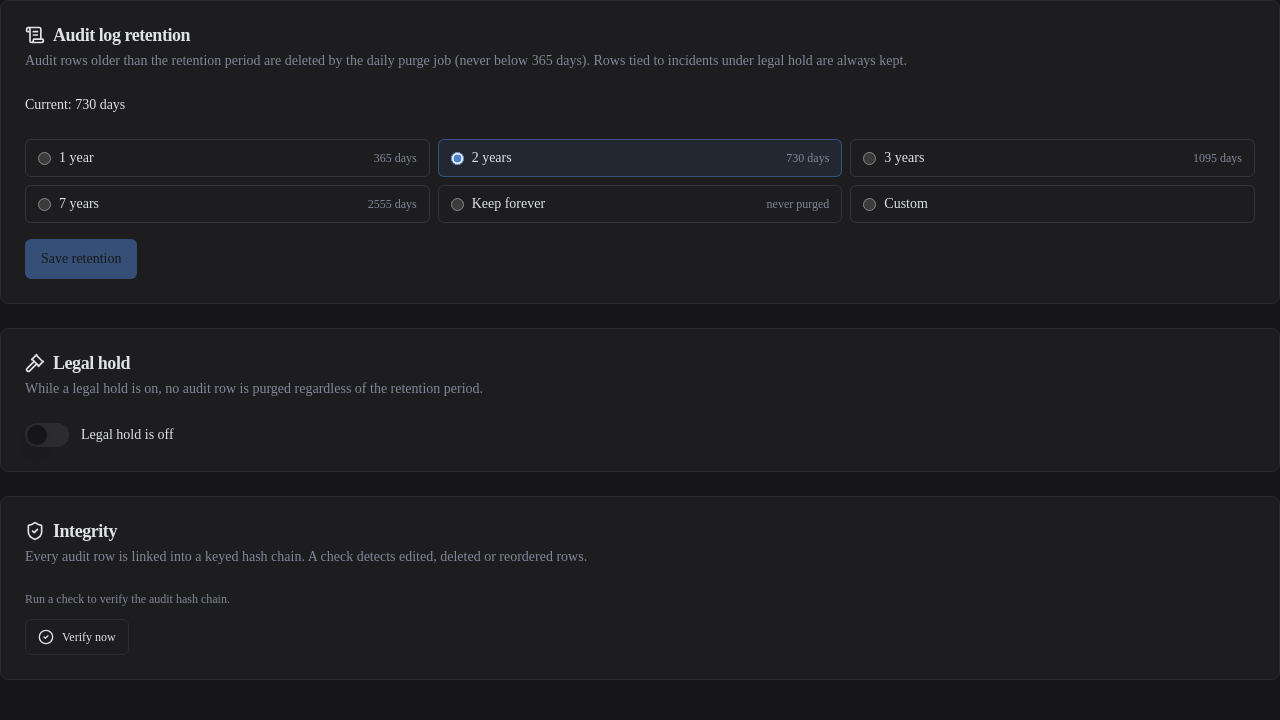
Scenario: AuditRetentionTab: retention › cancelling the confirmation sends nothing more
expect the heading "Audit log retention" is shown: met, box [25,25,190,45]
Click the radio button labelled "1 year 365 days" at (44, 158), box [38,152,51,164]
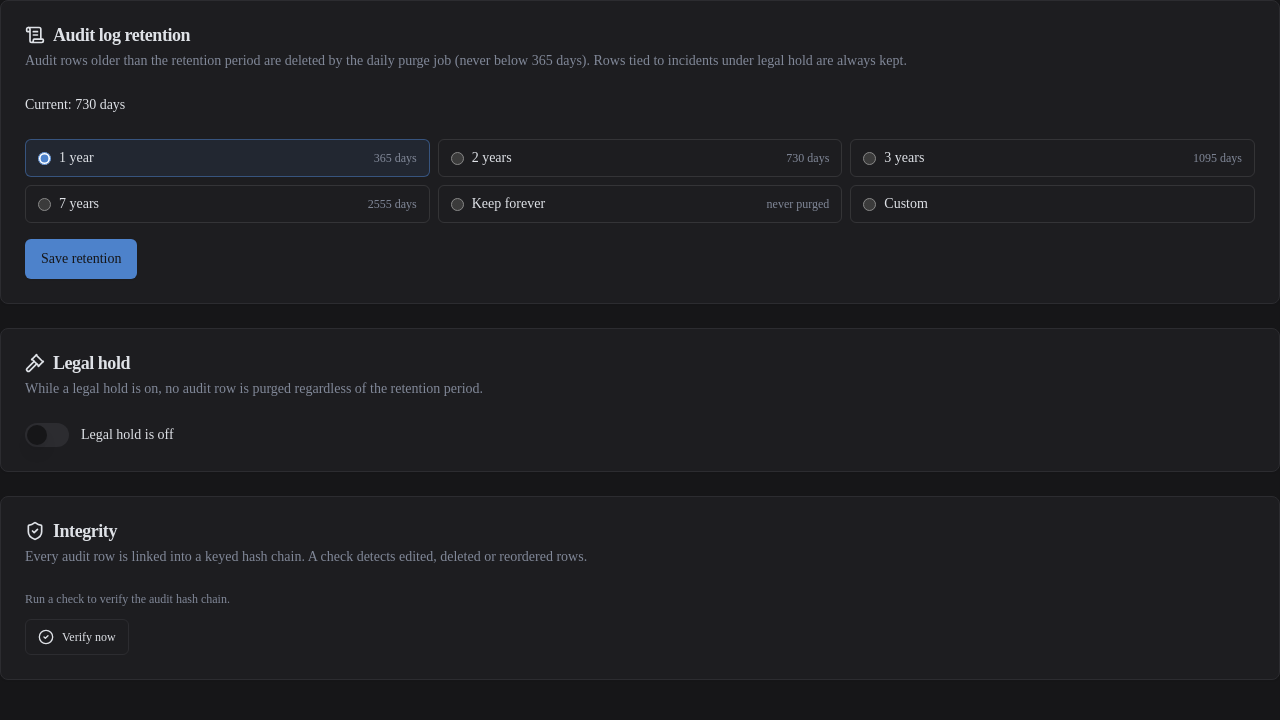
Click the button "Save retention" at (81, 259), box [25,239,138,279]
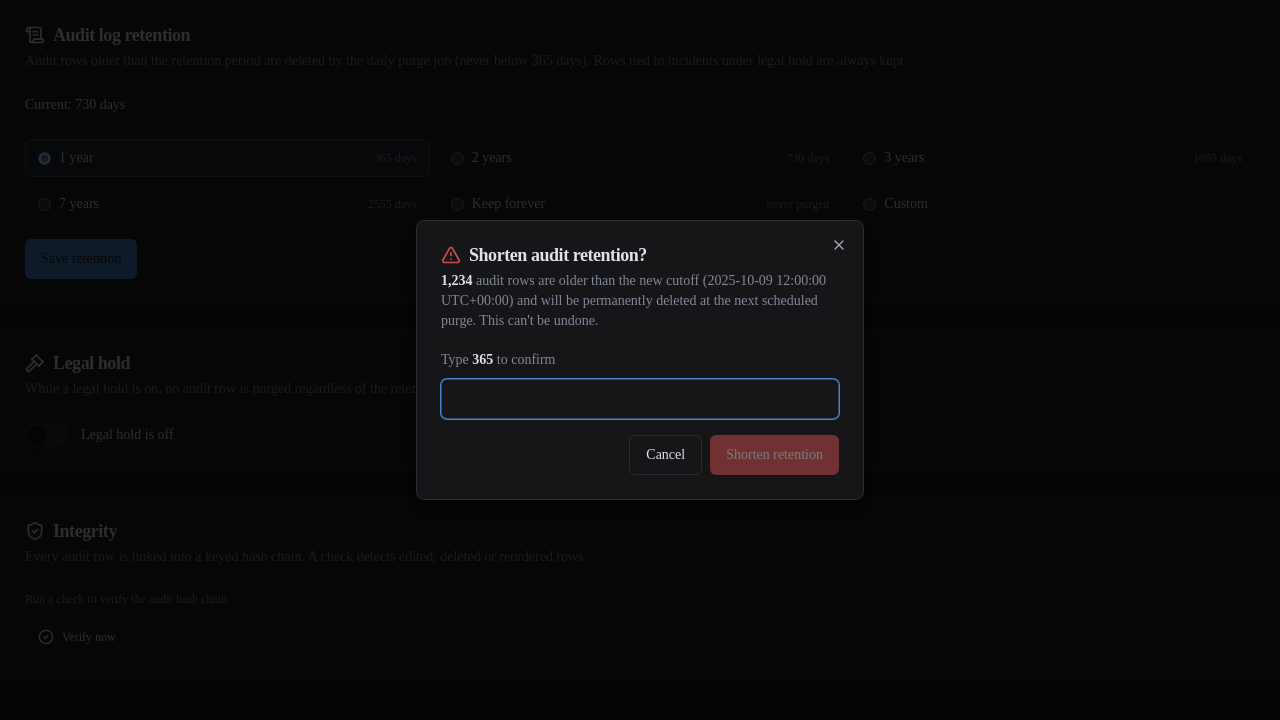
Click the button "Cancel" at (666, 455), box [629,435,702,475]
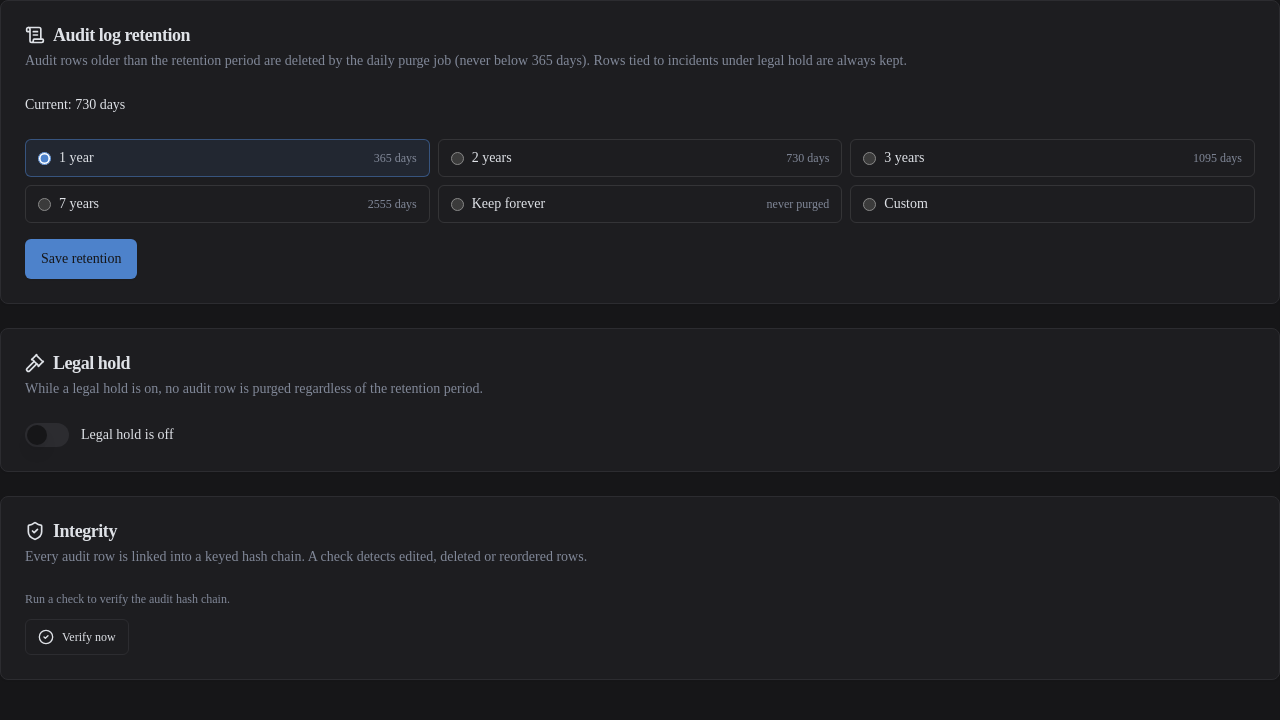
expect the text with test id "current-retention" reads "730 days": met, box [75,97,125,112]
expect the dialog is gone: met
